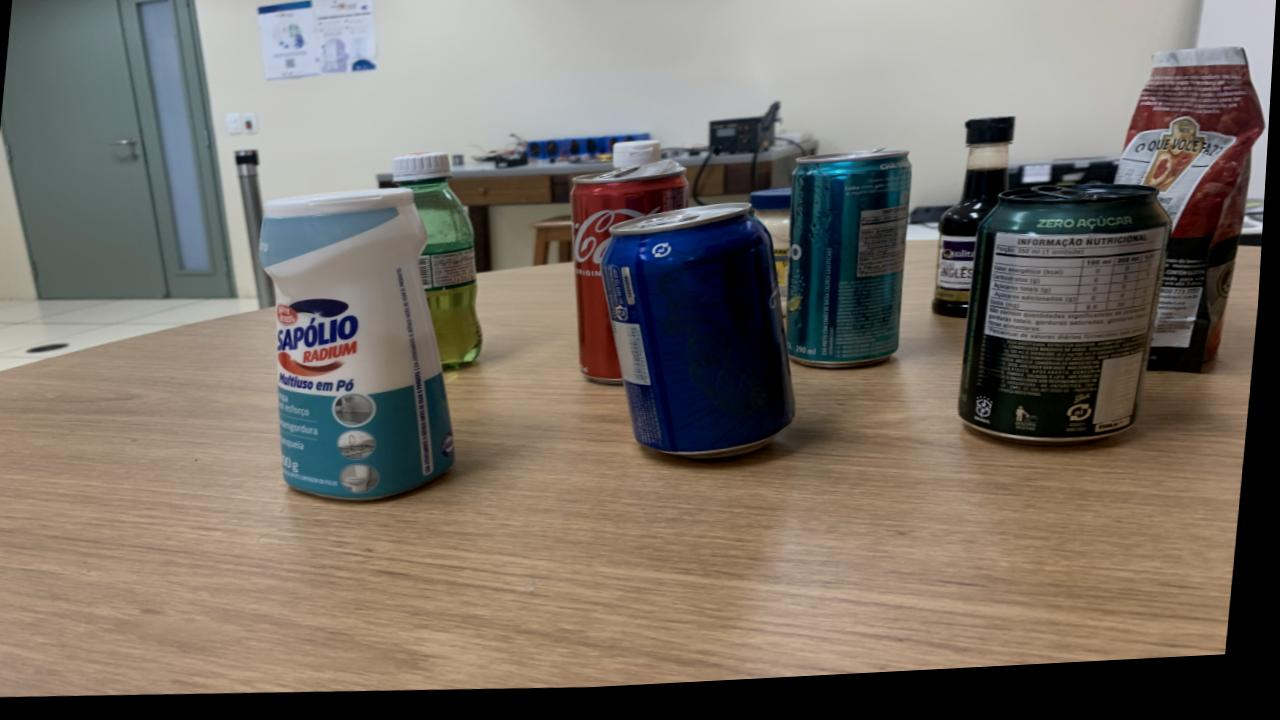Cleaner-Cleanup_Items: (263, 193, 461, 502)
Coke-Drinks: (573, 169, 692, 387)
English_Sauce-Pantry_Items: (936, 129, 1016, 328)
Guarana-Drinks: (394, 157, 486, 372)
Guarana_Can-Drinks: (965, 198, 1175, 455)
Mayonnaise-Pantry_Items: (753, 196, 796, 324)
Tea-Drinks: (791, 160, 915, 376)
Tomato_Sauce-Pantry_Items: (1118, 60, 1267, 385)
Tonic-Drinks: (605, 211, 801, 465)
